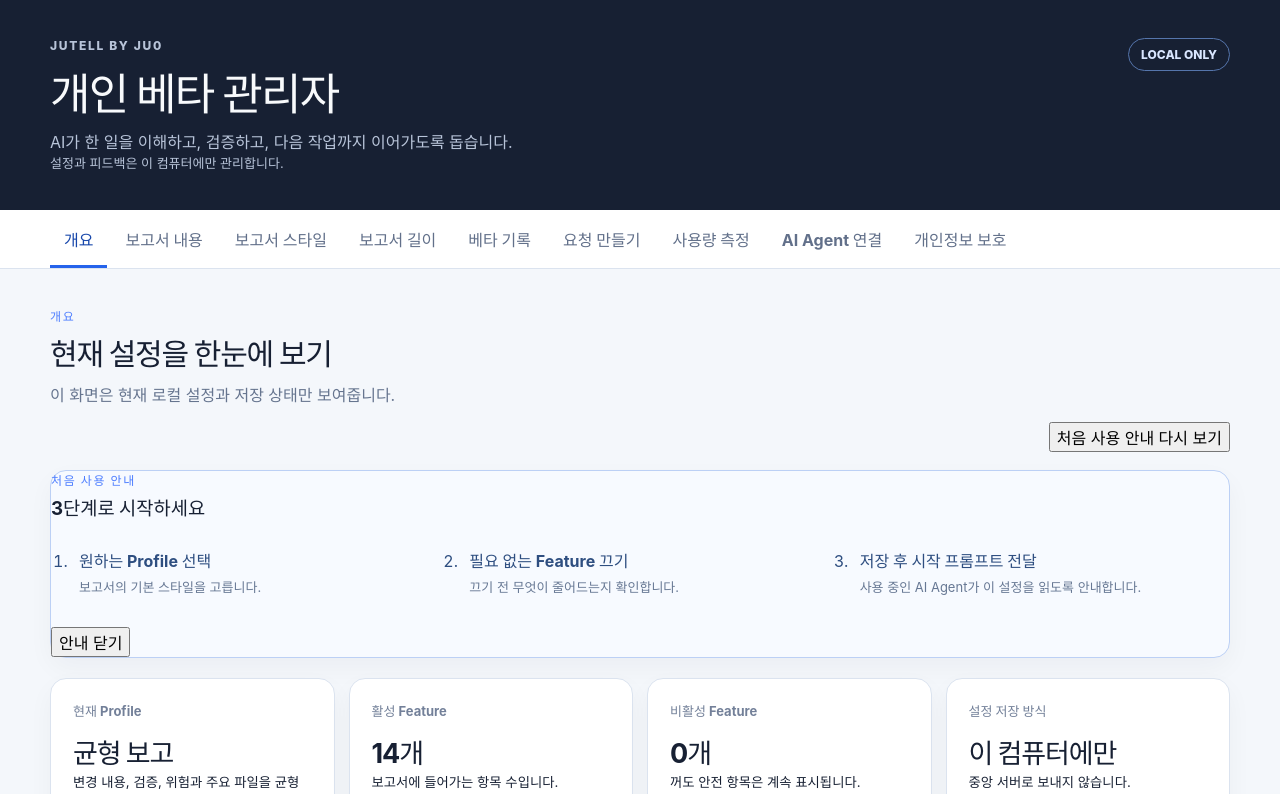
Scenario: local admin screens › shows the unsaved feature change and save preview
Click the button "보고서 내용". click: click(164, 239)
box: x1=112 y1=210 x2=217 y2=268
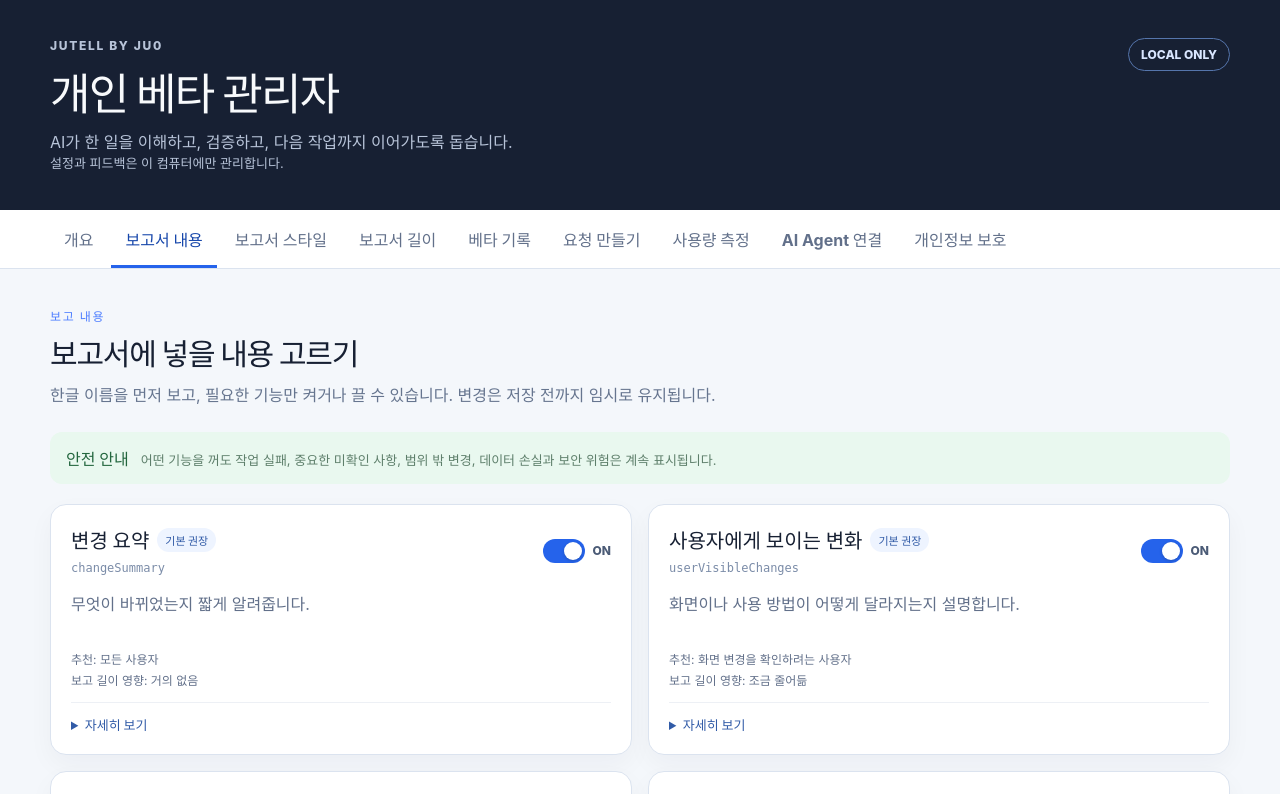
Expected: the text "보고 길이 영향: 조금 줄어듦" is shown, x1=669 y1=673 x2=807 y2=688
Click the 1st checkbox labelled "ON". click: click(577, 550)
box: x1=542 y1=538 x2=611 y2=562
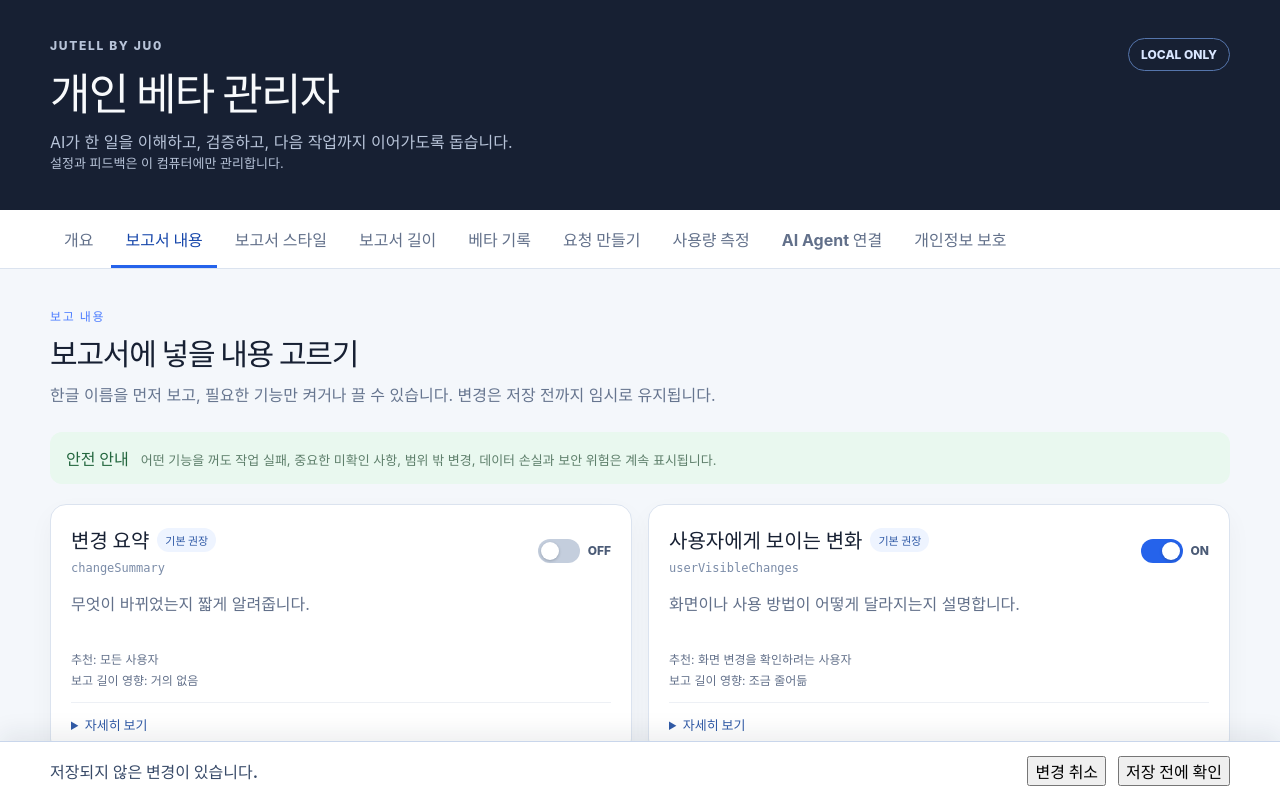
Expected: the text "저장되지 않은 변경이 있습니다." is shown, x1=50 y1=759 x2=258 y2=783
Click the button "저장 전에 확인". click: click(1174, 771)
box: x1=1118 y1=756 x2=1230 y2=786
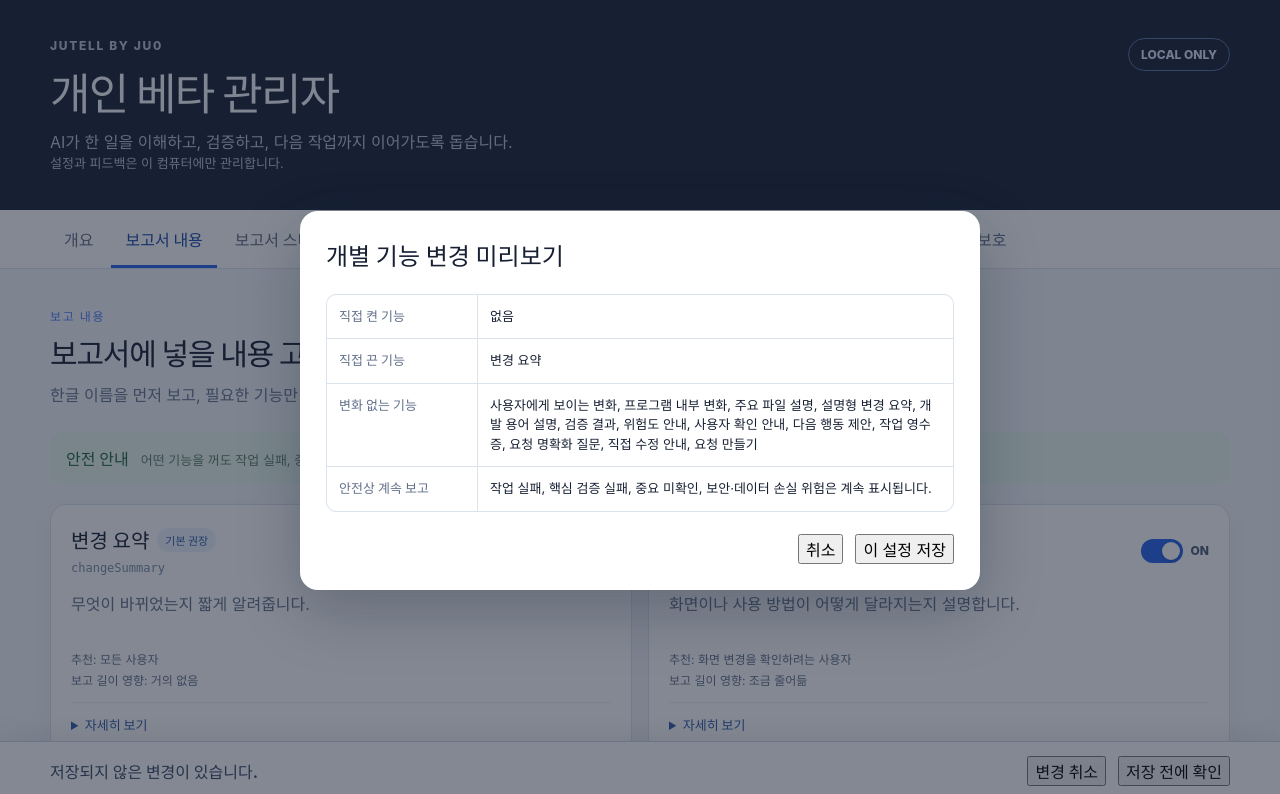
Expected: the dialog shows "개별 기능 변경 미리보기", x1=326 y1=242 x2=564 y2=270
